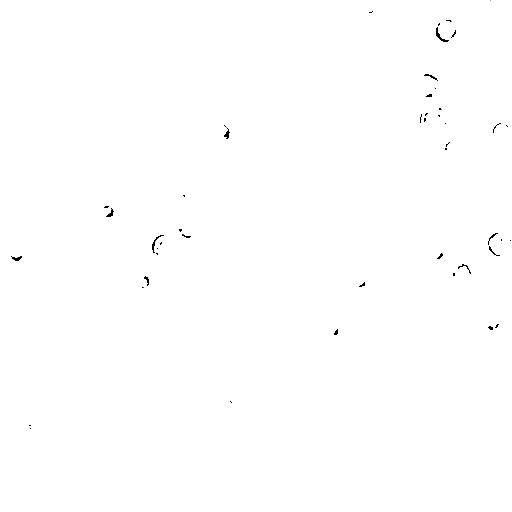micro-algae: (55, 109, 171, 223), (315, 442, 416, 512), (9, 75, 84, 149), (199, 13, 258, 73), (386, 55, 444, 113), (237, 227, 287, 279), (430, 110, 482, 160), (343, 429, 385, 470), (79, 263, 120, 303), (419, 107, 451, 136), (256, 428, 283, 461), (44, 25, 71, 57), (399, 298, 428, 327), (151, 232, 179, 261), (1, 141, 22, 179), (411, 73, 444, 97), (487, 229, 512, 258), (450, 258, 473, 289), (159, 127, 185, 153), (463, 57, 491, 81), (427, 313, 453, 338), (41, 473, 65, 499), (470, 473, 494, 498), (191, 121, 215, 145), (443, 136, 468, 158), (319, 315, 342, 338), (435, 17, 457, 41), (327, 17, 351, 38), (213, 393, 235, 415), (133, 254, 157, 274), (175, 222, 199, 241), (491, 122, 511, 144), (12, 496, 41, 511), (13, 419, 33, 440), (212, 121, 232, 141), (477, 0, 502, 16), (19, 282, 41, 300), (7, 241, 26, 261), (481, 311, 501, 330), (98, 202, 118, 219), (427, 243, 448, 259), (180, 183, 201, 199), (233, 238, 249, 255), (247, 225, 263, 241), (352, 274, 368, 289), (361, 0, 379, 13), (135, 275, 151, 289)
